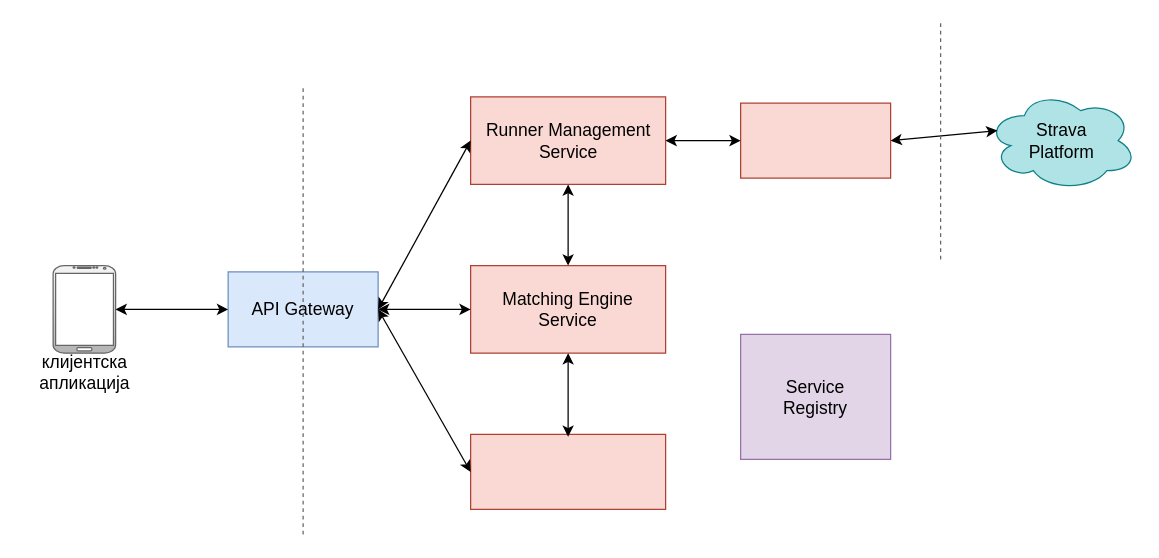
Some shapes in this 1159 by 558 pixel diagram are drawn without their labels. Each missing label, with the centre of its shape:
Messaging Service: the point at 567,471
Strava Gateway Service: the point at 815,140
